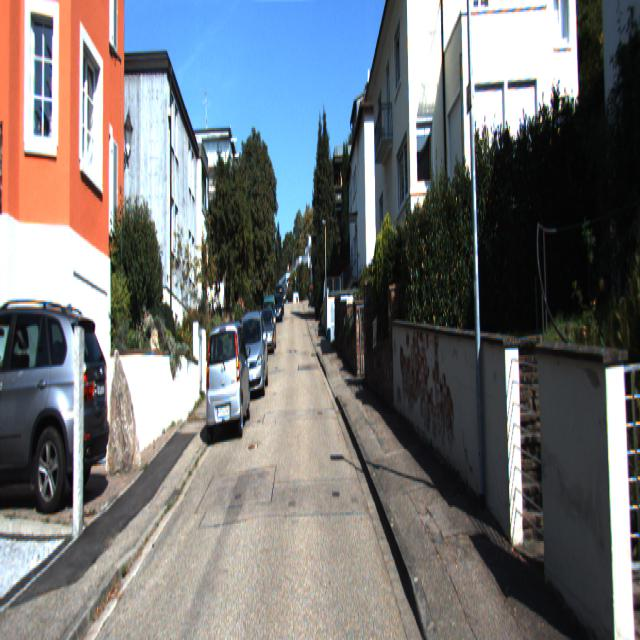Car: (0, 300, 110, 520), (203, 313, 252, 443), (233, 310, 270, 400), (256, 309, 276, 355)
